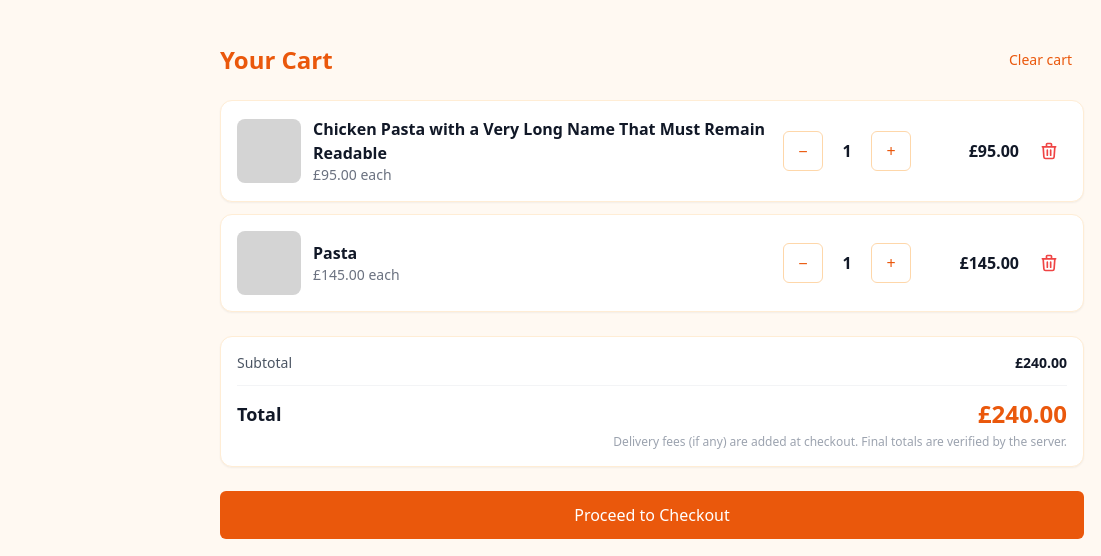
Test: keeps clear cart, empty state and checkout navigation working
Later steps or results of the test are not shown.
Click the button "Proceed to Checkout": (652, 515) [220, 491, 1084, 539]
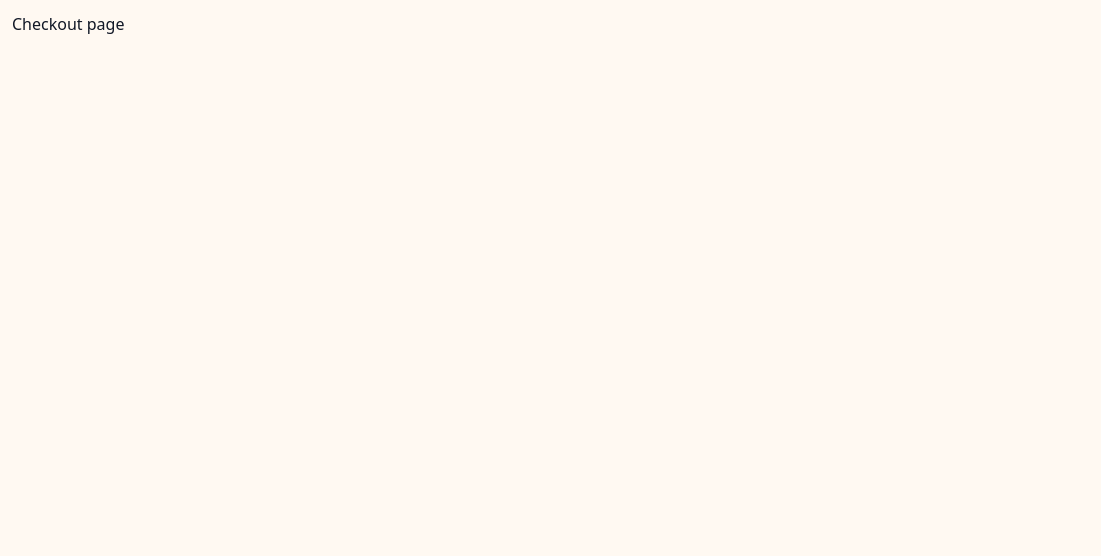
Expected: the text "Checkout page" is shown, [12, 13, 124, 35]
